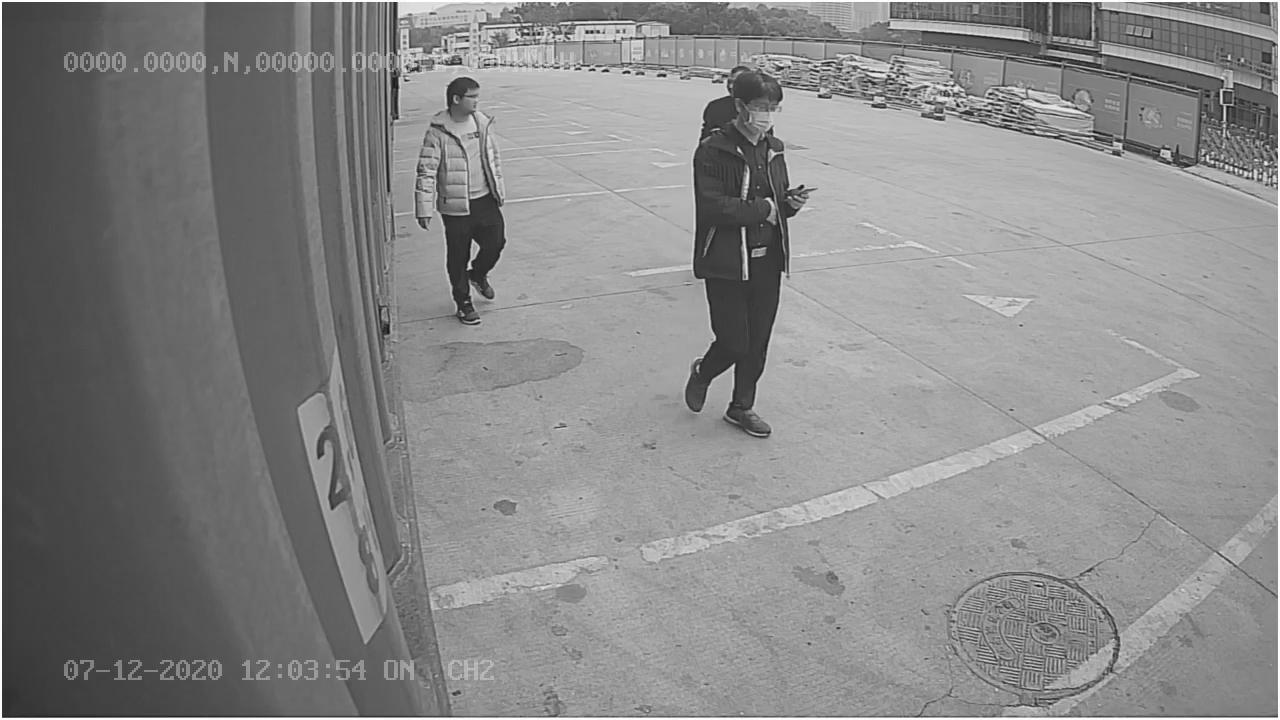person: (411, 75, 510, 323)
